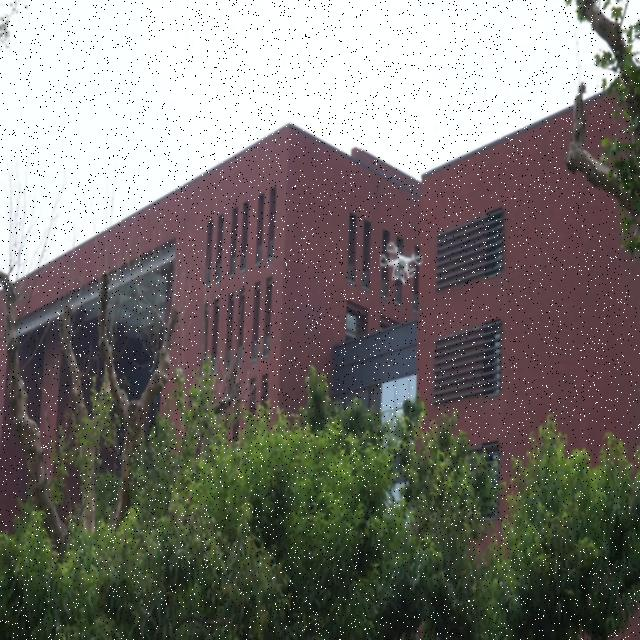UAV: (379, 241, 424, 285)
